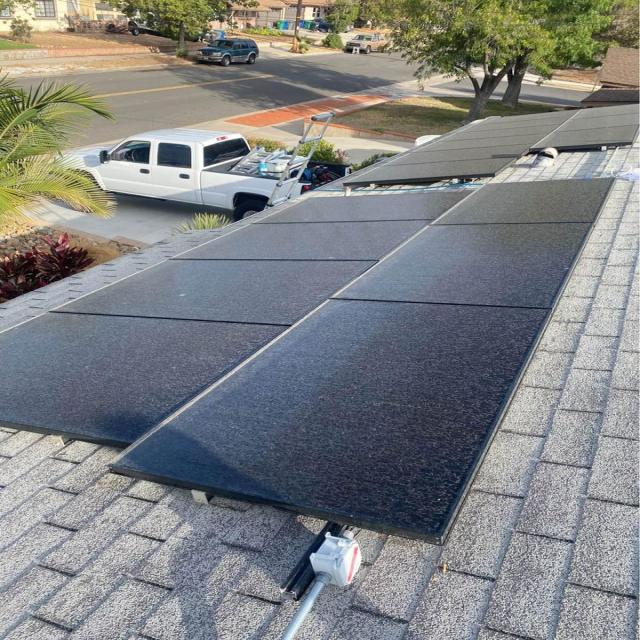dust-solar-panel: (0, 179, 611, 532)
